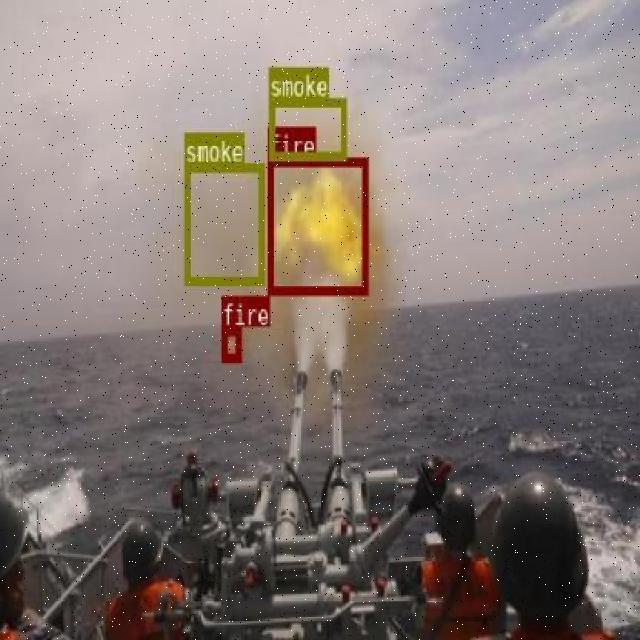Smoke: (186, 162, 260, 282), (272, 34, 342, 94)
